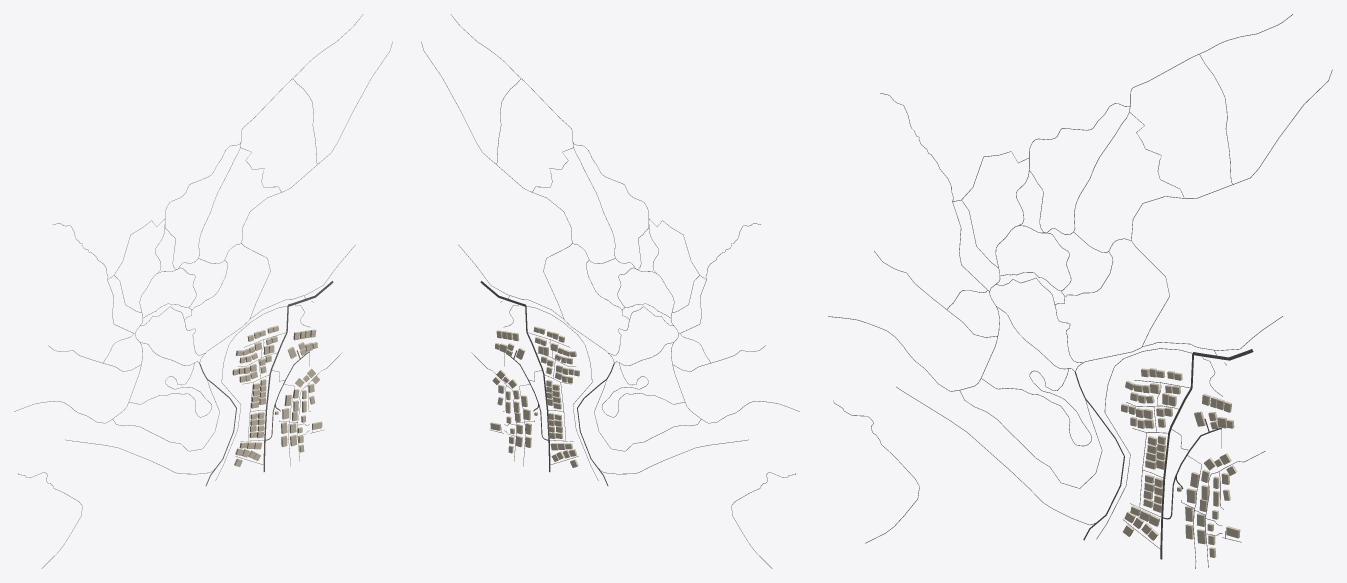
File: historic-palestine-10_31_3517_3258.glb
3 renders of one model, left to right at view 1: azimuth 30°, elevation 25°; view 2: azimuth 150°, elevation 25°; view 3: azimuth 330°, elevation 25°, orthographic. The views are drawn at different scales.
Size of the model in its own units: 1344 by 1615 by 8.7.
